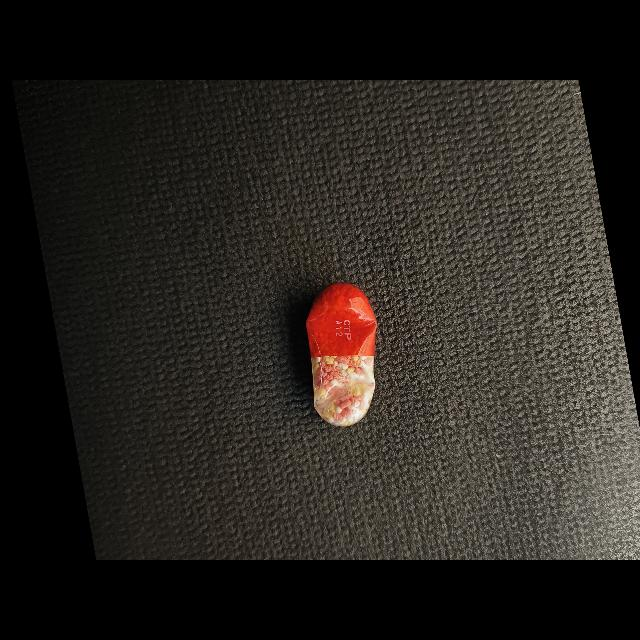Defective Capsule: (306, 283, 377, 427)
